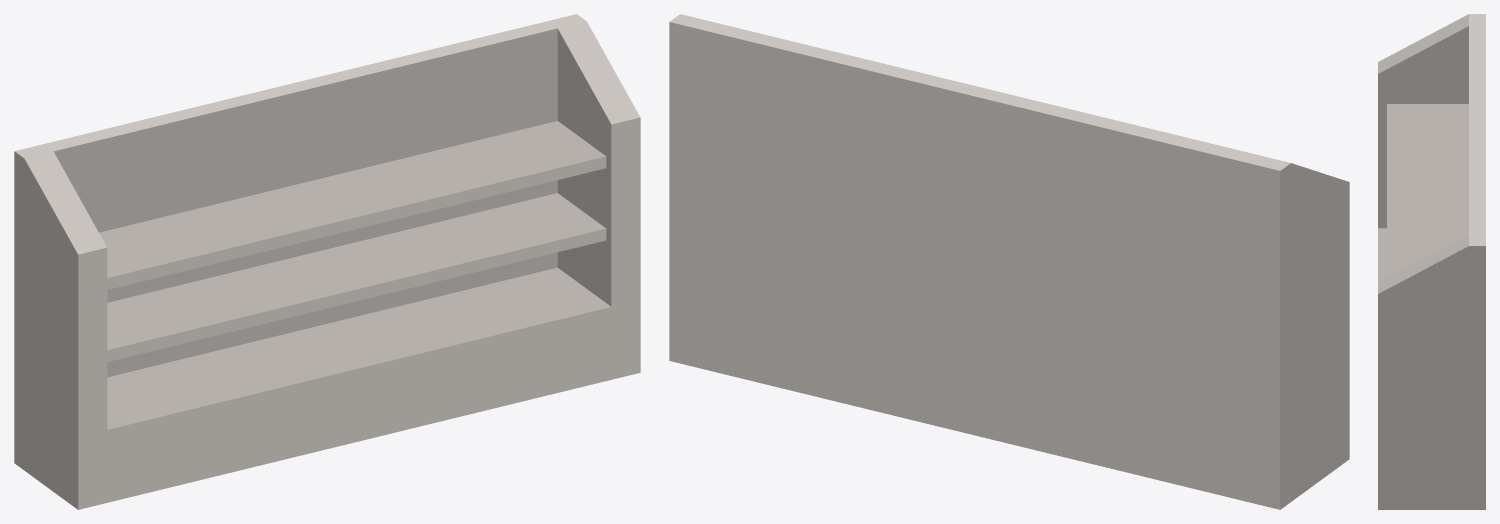
The model's file is Shelf3.glb.
3 views of the same model, side by side, from view 1: azimuth 30°, elevation 25°; view 2: azimuth 150°, elevation 25°; view 3: azimuth 270°, elevation 25° (orthographic). The views are drawn at different scales.
Visible parts, largest first — view 1: SI_Prop_Shelf_03; view 2: SI_Prop_Shelf_03; view 3: SI_Prop_Shelf_03.
Part boxes in pixels (x1,y1,x2,y2): SI_Prop_Shelf_03: (14, 14, 640, 509); SI_Prop_Shelf_03: (669, 14, 1349, 509); SI_Prop_Shelf_03: (1378, 14, 1485, 509).
Size of the model in its own units: 0.0428 by 0.0227 by 0.00839.
Materials: 1 (1 with a texture image).
